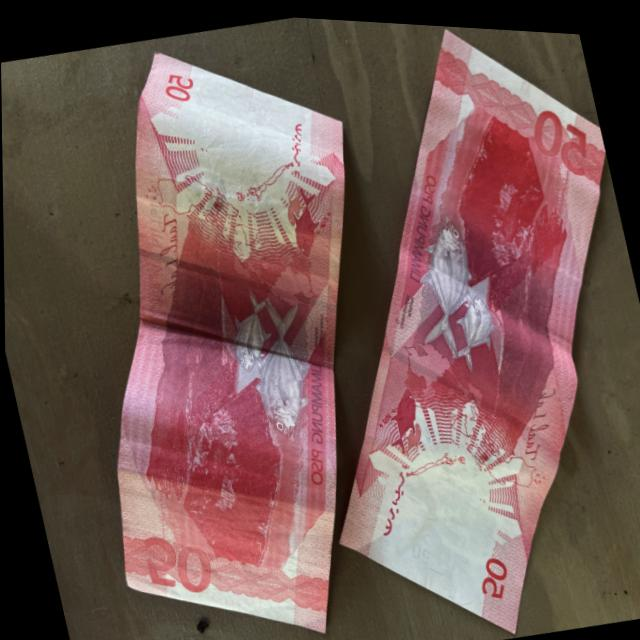50_maliputo: (402, 204, 523, 390), (207, 274, 327, 443)
50_maliputo_watermark: (373, 372, 437, 469), (272, 174, 334, 261)
value_watermark: (398, 522, 437, 569)
watermark: (385, 457, 491, 594)
